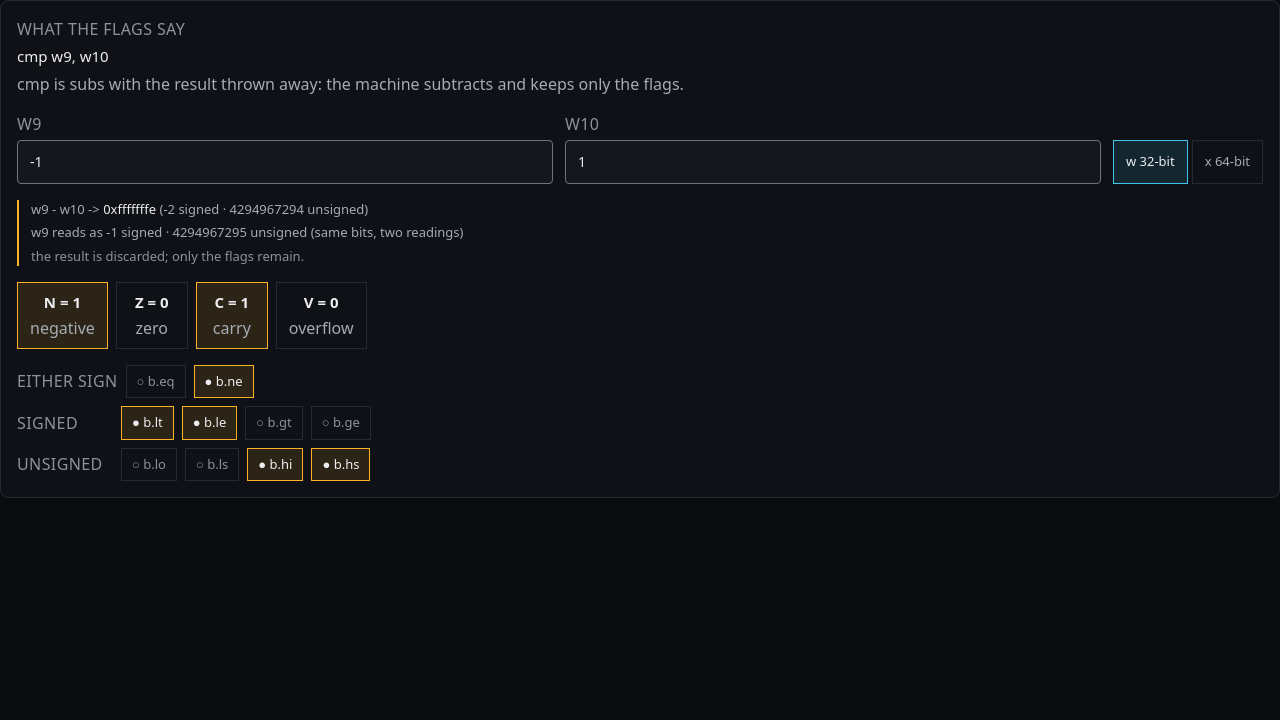
FlagEffect › width toggle changes the sign reading of the same bits
The image size is (1280, 720).
Replace the text in the field labelled "w9" with "0x80000000" at (285,162), box [17,140,553,184]
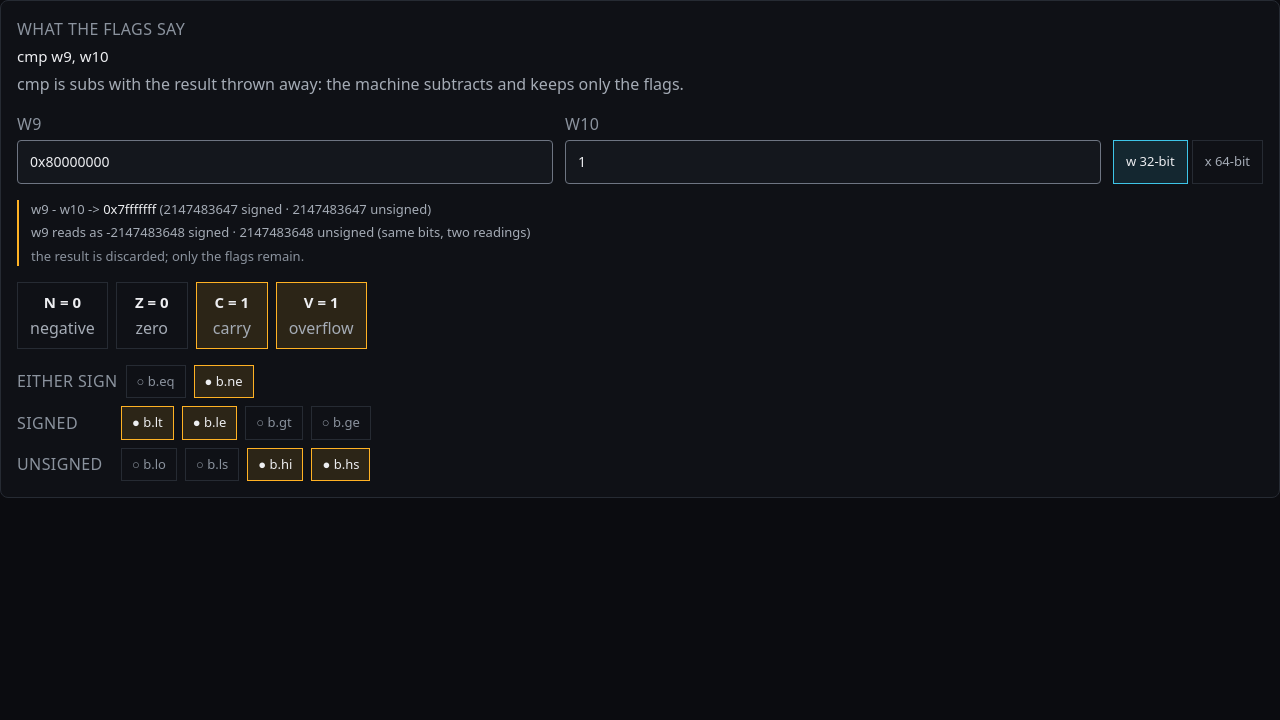
Replace the text in the field labelled "w10" with "0" at (833,162), box [565,140,1101,184]
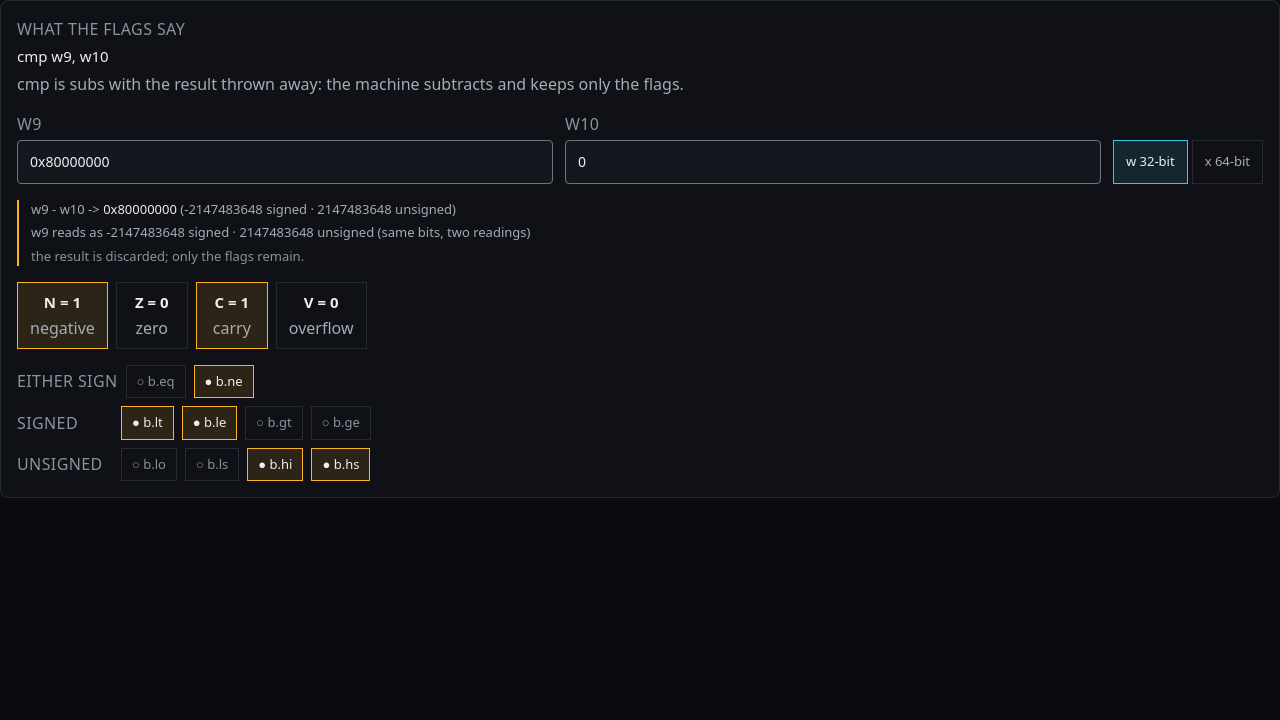
Expected: the list item with aria-label "N negative: 1" is shown, [17,282,108,348]
Click the button "x 64-bit" at (1227,162), box [1192,140,1263,184]
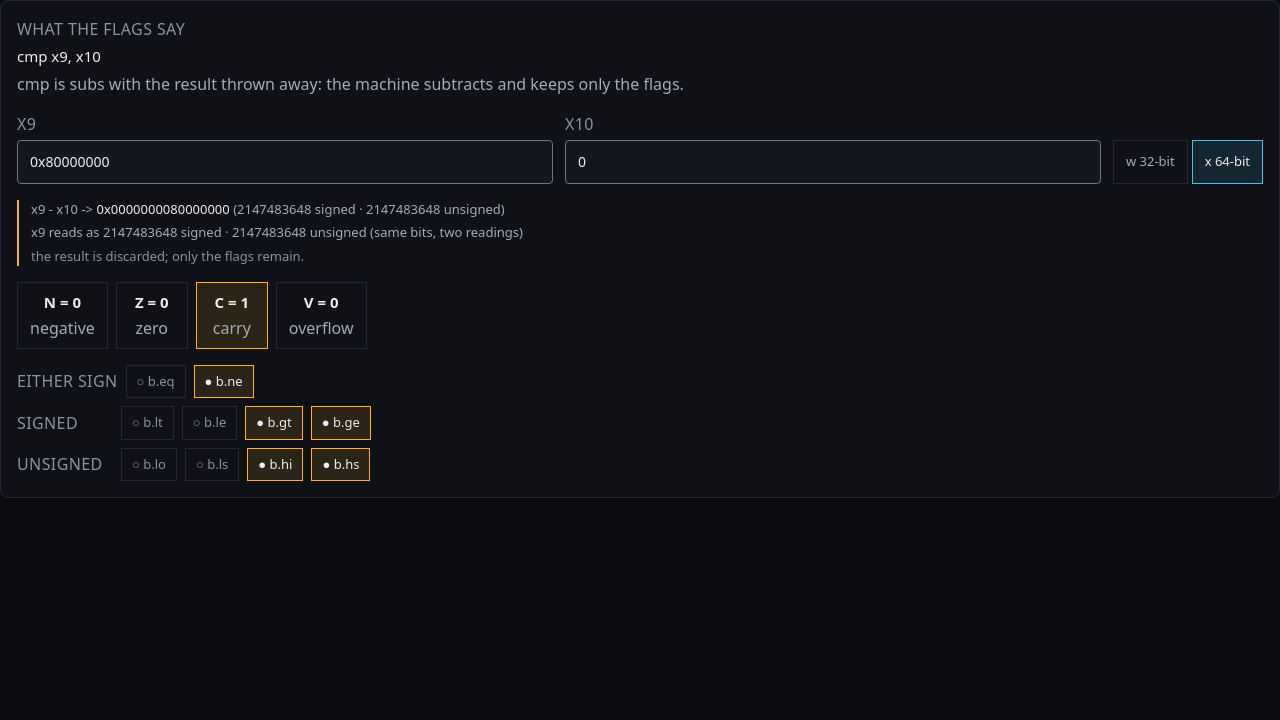
Expected: the list item with aria-label "N negative: 0" is shown, [17,282,108,348]
